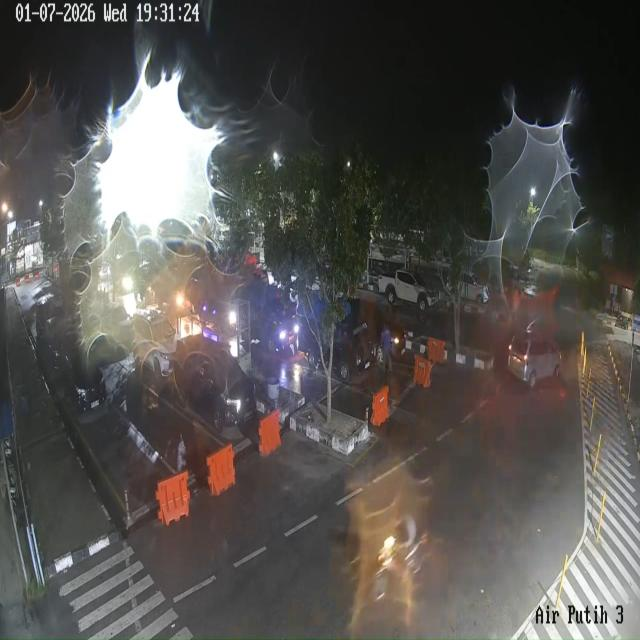Golongan IVA: (174, 334, 256, 432), (131, 308, 178, 378), (508, 331, 562, 388), (35, 295, 65, 340)
Golongan IVB: (378, 270, 439, 312)
